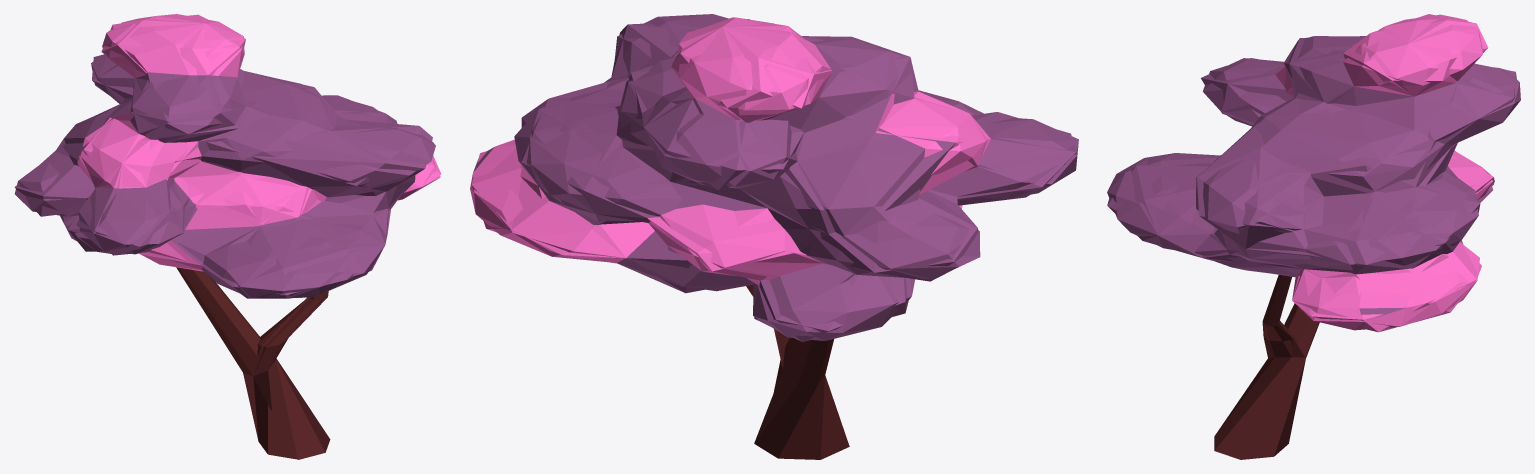
Rendered from Sacura.fbx.
The picture shows the model from 3 angles, left to right: view 1: azimuth 30°, elevation 25°; view 2: azimuth 150°, elevation 25°; view 3: azimuth 270°, elevation 25°; orthographic projection. The views are drawn at different scales.
Parts seen in each view (by area): view 1: SacuraHP, SacuraLP; view 2: SacuraHP, SacuraLP; view 3: SacuraHP, SacuraLP.
Part boxes in pixels (bbox=[...]): SacuraHP: bbox=[14, 14, 440, 459]; SacuraLP: bbox=[14, 14, 441, 459]; SacuraHP: bbox=[470, 14, 1078, 459]; SacuraLP: bbox=[471, 17, 1076, 459]; SacuraHP: bbox=[1107, 14, 1520, 459]; SacuraLP: bbox=[1107, 14, 1516, 459].
Bounding box in the file's own units: 883 × 798 × 759.
